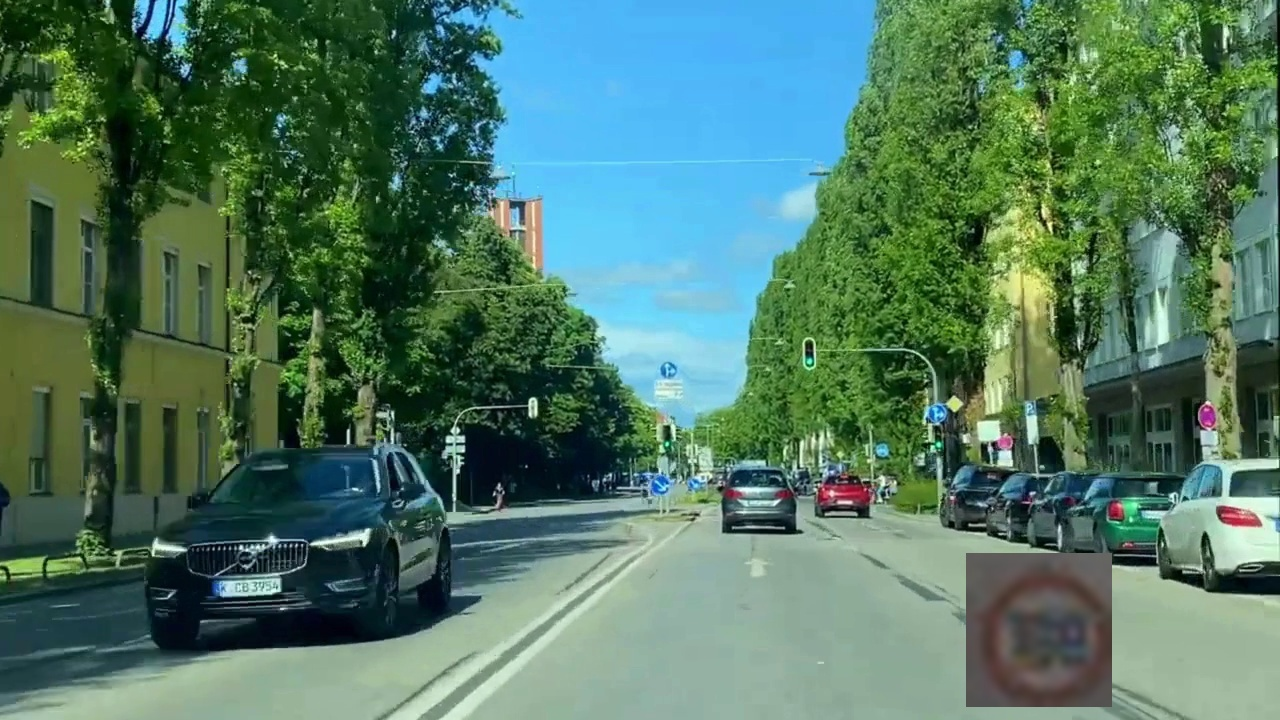Speed 100: (966, 553, 1112, 707)
